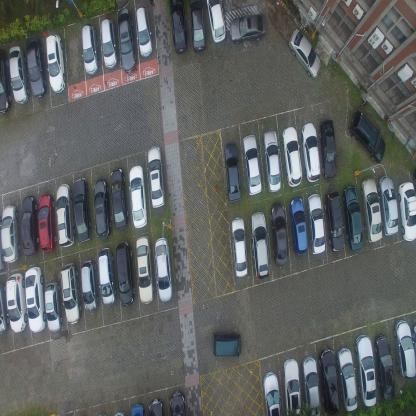car: (349, 107, 386, 163), (354, 332, 377, 406), (287, 26, 319, 76), (360, 175, 383, 243), (24, 266, 47, 333), (374, 334, 396, 402), (318, 348, 340, 416), (336, 345, 358, 412), (342, 184, 364, 250), (115, 239, 136, 306), (280, 125, 302, 187), (240, 134, 262, 196), (378, 173, 400, 235), (250, 210, 270, 278), (393, 318, 415, 379), (153, 237, 173, 303), (72, 178, 92, 244), (56, 182, 76, 248), (116, 8, 136, 74), (25, 38, 47, 98), (5, 272, 27, 332), (0, 202, 21, 264), (8, 46, 30, 105), (61, 263, 82, 323), (136, 234, 154, 303), (229, 11, 266, 44), (262, 130, 282, 191), (325, 190, 345, 251), (110, 169, 129, 233), (129, 164, 148, 228), (300, 121, 320, 181), (147, 146, 166, 209), (46, 35, 66, 94), (97, 247, 117, 305), (38, 194, 58, 252), (223, 141, 242, 202), (302, 354, 321, 414), (282, 356, 301, 416), (398, 178, 416, 241), (270, 200, 288, 263), (319, 116, 337, 178), (93, 178, 111, 239), (22, 195, 40, 256), (308, 192, 325, 254), (80, 258, 99, 312), (230, 214, 246, 278), (290, 196, 307, 254), (168, 0, 186, 53), (82, 23, 100, 76), (188, 0, 206, 52), (99, 20, 118, 69), (262, 370, 282, 416), (44, 281, 62, 332), (134, 7, 152, 58), (207, 0, 226, 44), (211, 331, 242, 357), (0, 48, 12, 114), (0, 281, 9, 333), (169, 390, 187, 415), (148, 398, 164, 416)
